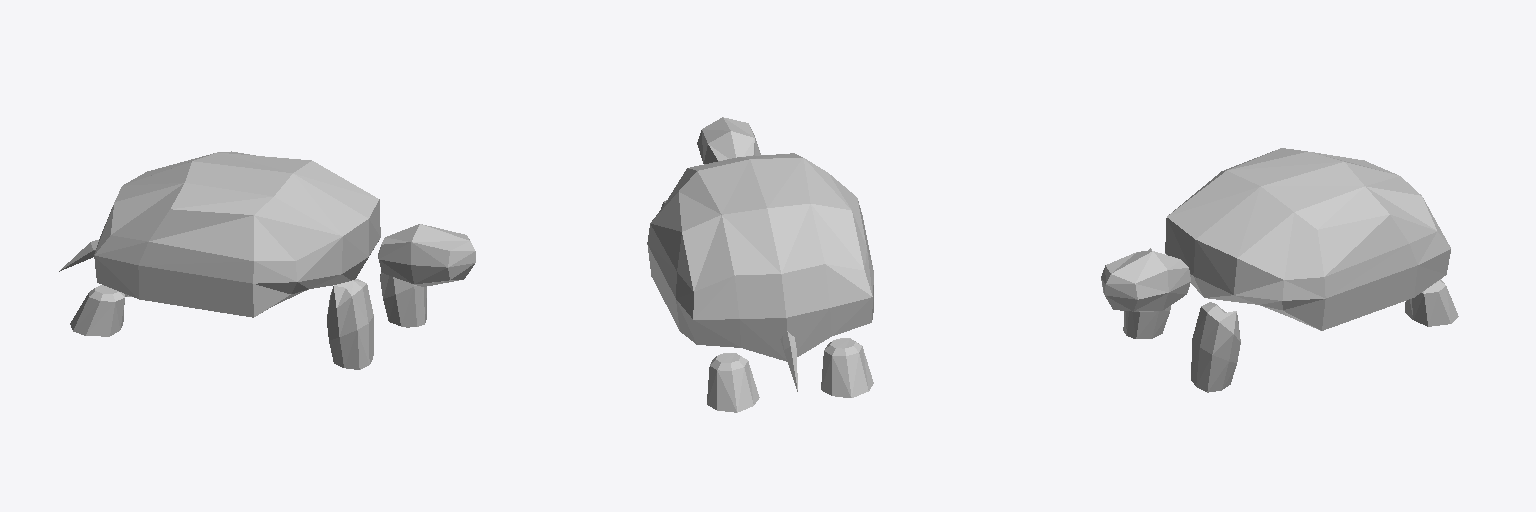
Rendered from turtle2.obj.
3 views of the same model, side by side, from view 1: azimuth 30°, elevation 25°; view 2: azimuth 150°, elevation 25°; view 3: azimuth 270°, elevation 25° (orthographic).
Parts seen in each view (by area): view 1: turtle; view 2: turtle; view 3: turtle.
Part boxes in pixels (left/top/right/bottom): turtle: left=59, top=151, right=475, bottom=369; turtle: left=647, top=117, right=873, bottom=412; turtle: left=1101, top=148, right=1458, bottom=392.
Bounding box in the file's own units: 0.6444 × 0.36 × 0.7038.